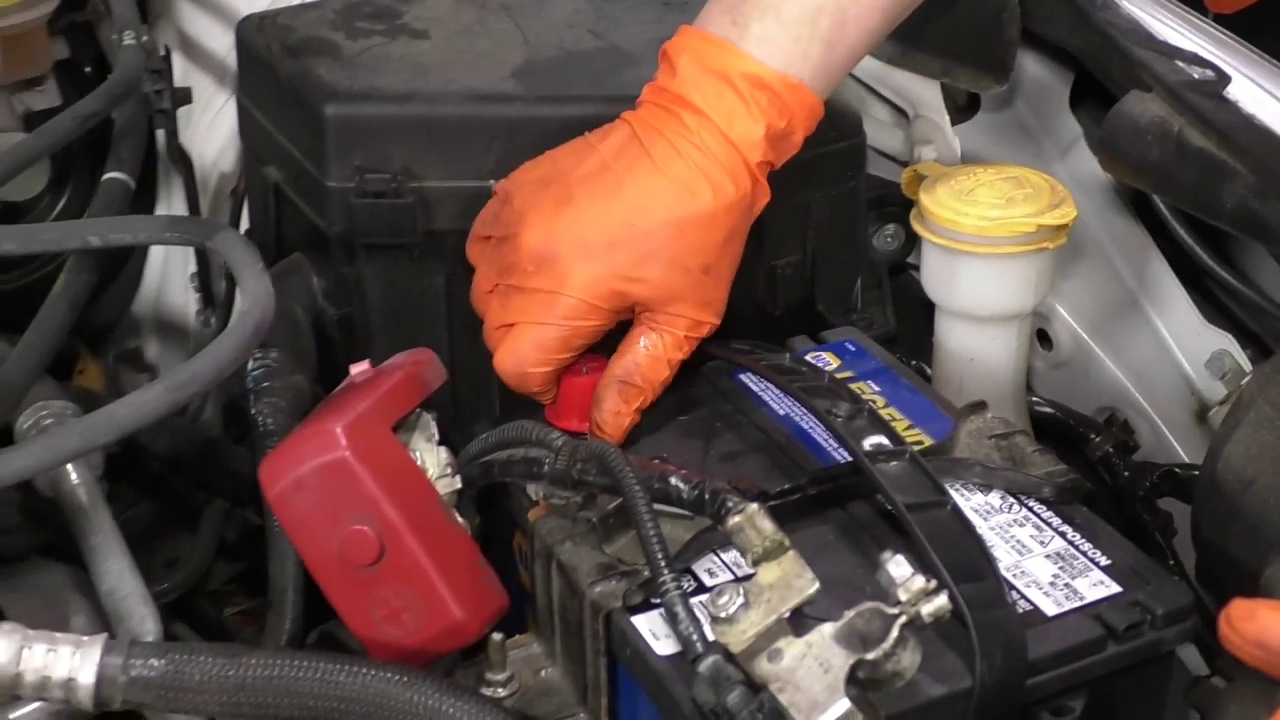battery: (464, 314, 1195, 704)
